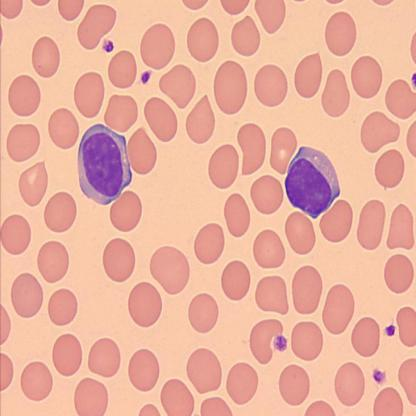Lymphocyte: (78, 122, 132, 206), (284, 144, 341, 219)
